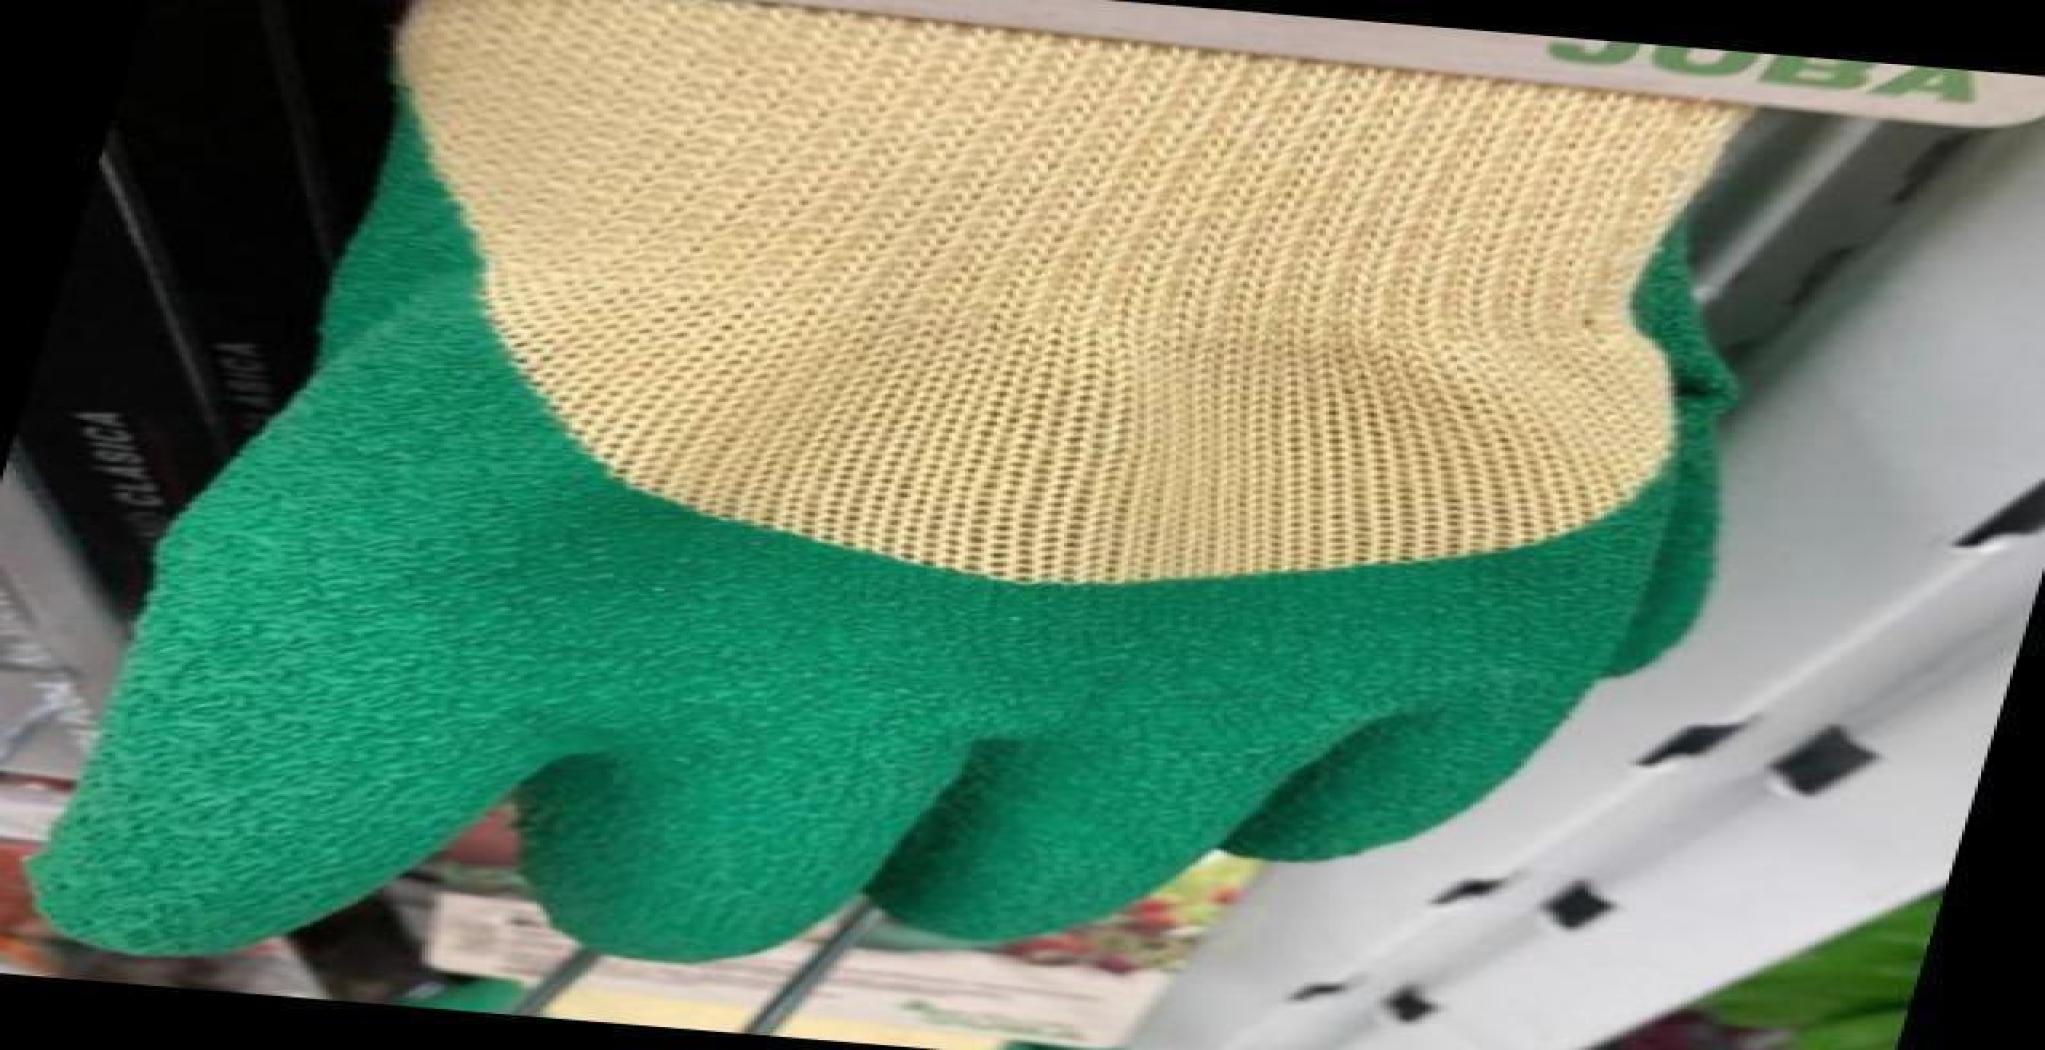gloved: (13, 0, 1764, 966)
